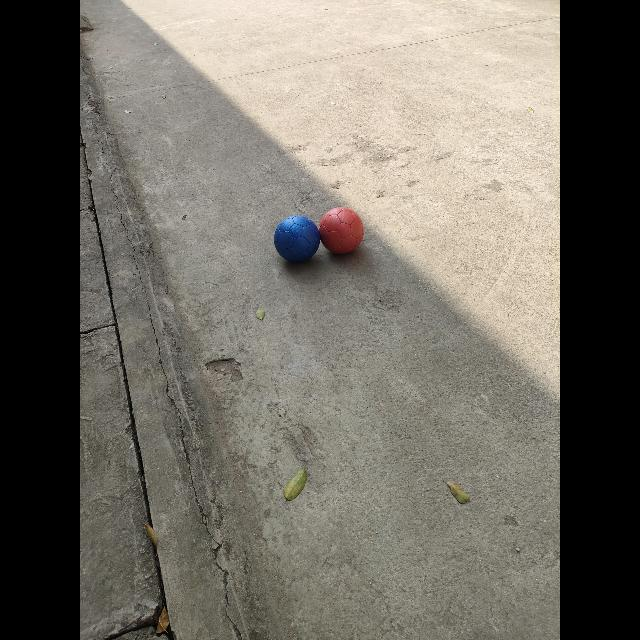B: (274, 215, 320, 262)
R: (319, 208, 364, 254)
